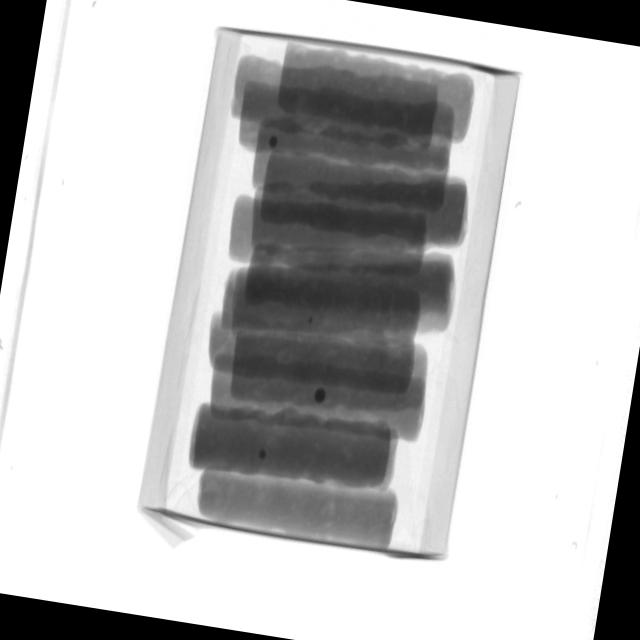ym: (314, 388, 327, 405), (271, 136, 280, 148), (308, 316, 316, 328), (260, 450, 268, 459)
